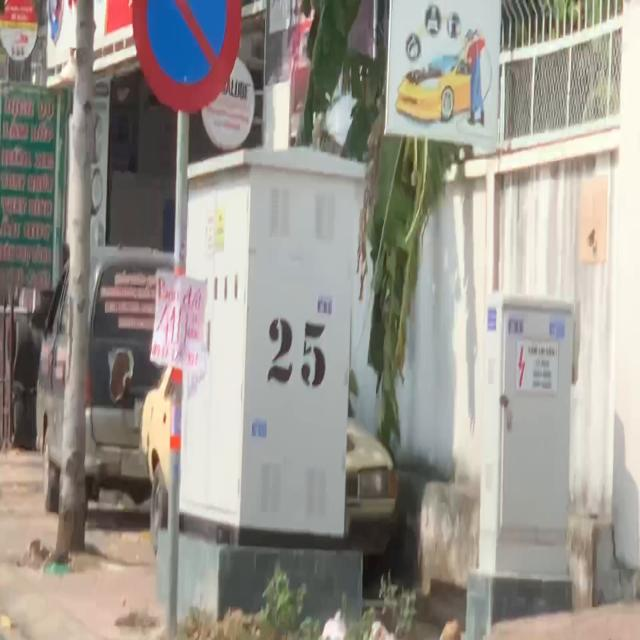Cam do: (118, 0, 248, 128)
